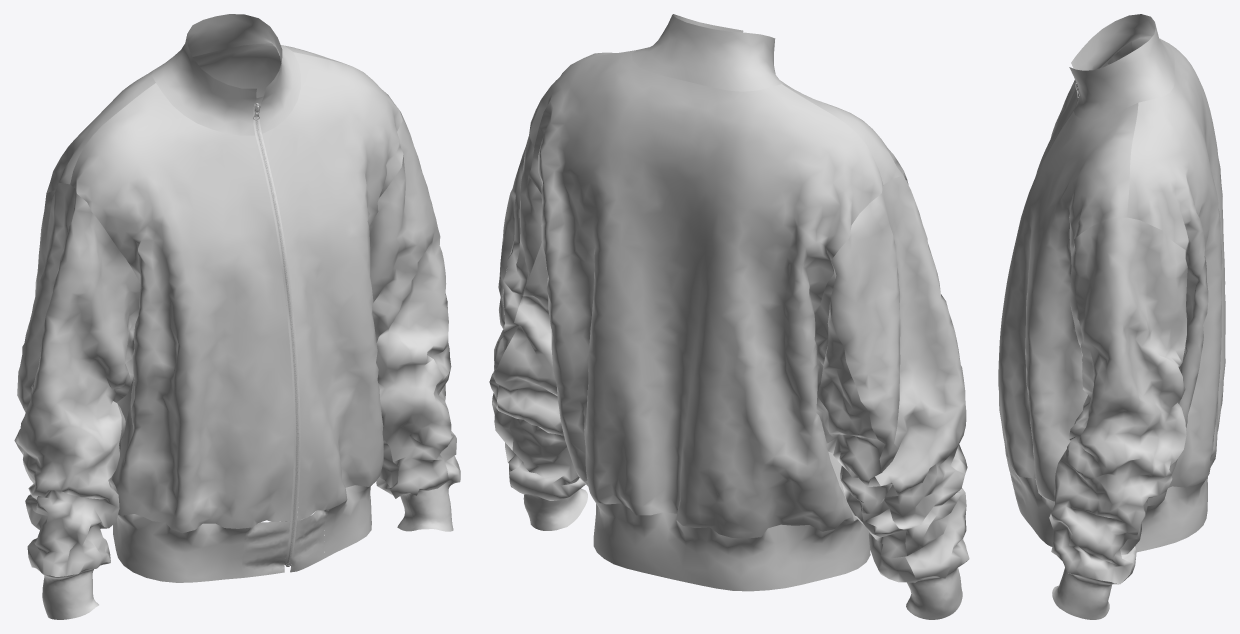
The model's file is veste_zippe.glb.
The picture shows the model from 3 angles, left to right: view 1: azimuth 30°, elevation 25°; view 2: azimuth 150°, elevation 25°; view 3: azimuth 270°, elevation 25°; orthographic projection. The views are drawn at different scales.
Parts seen in each view (by area): view 1: Cloth_mesh; view 2: Cloth_mesh; view 3: Cloth_mesh.
Part boxes in pixels (left/top/right/bottom): Cloth_mesh: left=14, top=14, right=460, bottom=619; Cloth_mesh: left=489, top=14, right=969, bottom=619; Cloth_mesh: left=998, top=14, right=1225, bottom=619.
Size of the model in its own units: 0.636 by 0.7645 by 0.3124.
7 materials, 6 textured.
